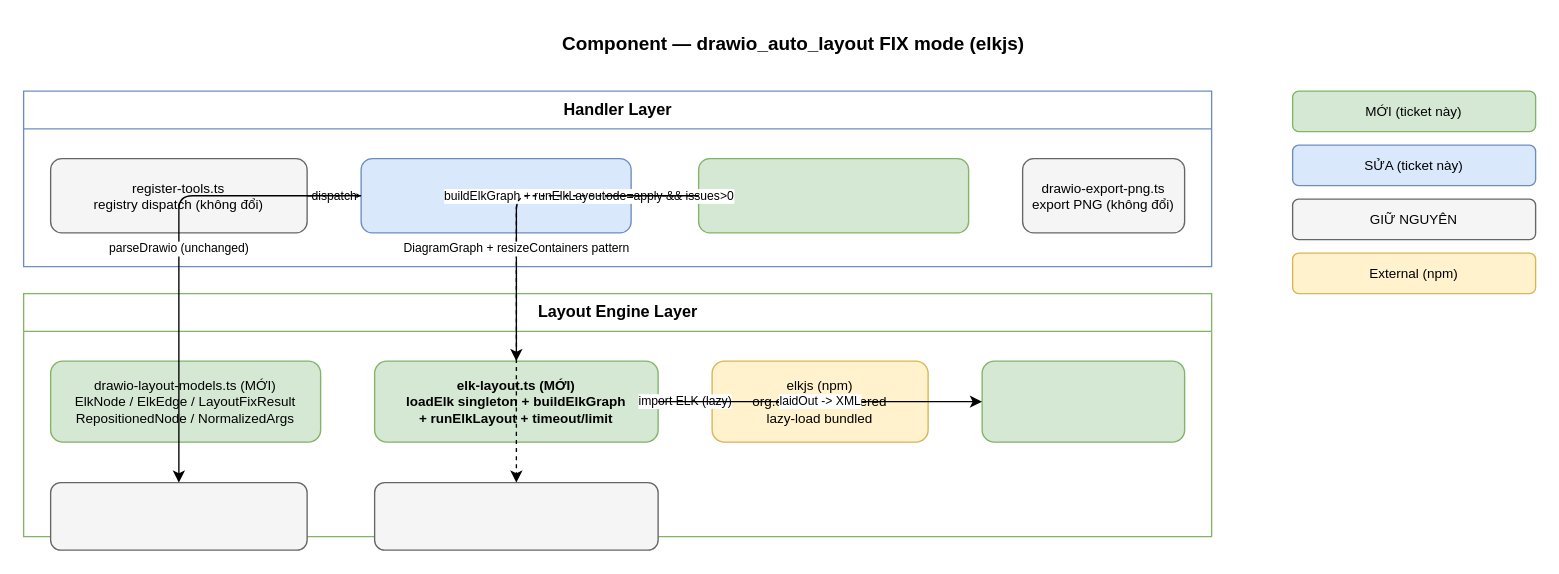
This 1559x574 diagram has some shape labels left out. Here are the shapes that lost their labels. From the top down, the centre of each, then its label:
At pixel 495 195: "drawio-tool.ts handleDrawioLayout async (SỬA: thêm mode)".
At pixel 833 195: "drawio-apply.ts (MỚI) handleApply: orchestrate + rollback".
At pixel 1083 401: "drawio-writer.ts (MỚI) applyLayoutToXml: ghi x/y + waypoints + shift origin".
At pixel 178 515: "drawio-parser.ts parseDrawio -> DiagramGraph (không đổi)".
At pixel 515 515: "drawio-layout.ts applyLayout cũ + resizeContainers (reuse pattern, không đổi)".
